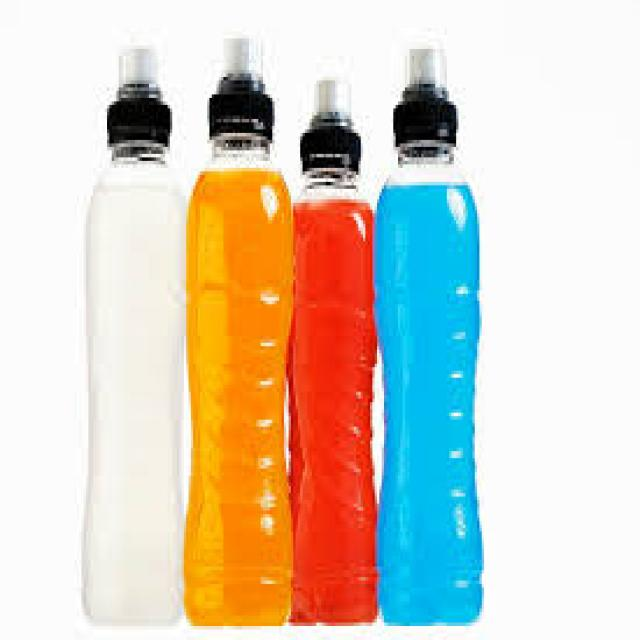Plastic: (372, 44, 488, 630), (183, 32, 295, 632), (78, 44, 192, 629), (291, 68, 379, 629)
